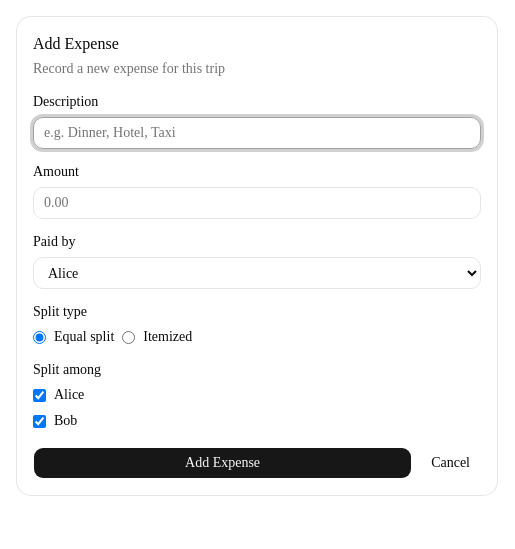
Test case: AddExpenseFormView › shows split among required error when all members are unchecked
Type "Dinner" into the field with placeholder "e.g. Dinner, Hotel, Taxi" at (257, 133), box left=33, top=117, right=481, bottom=149
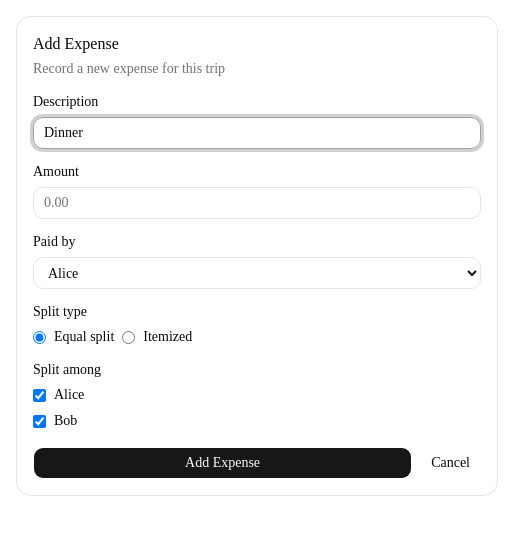
Type "10" into the field with placeholder "0.00" at (257, 203), box left=33, top=187, right=481, bottom=219
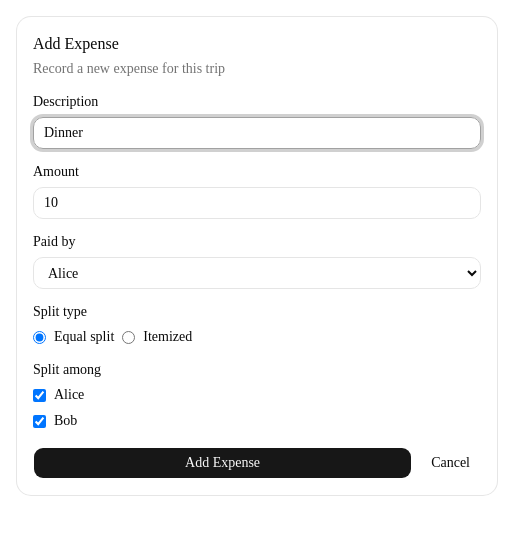
Click the checkbox labelled "Alice" at (40, 395), box left=33, top=388, right=46, bottom=402
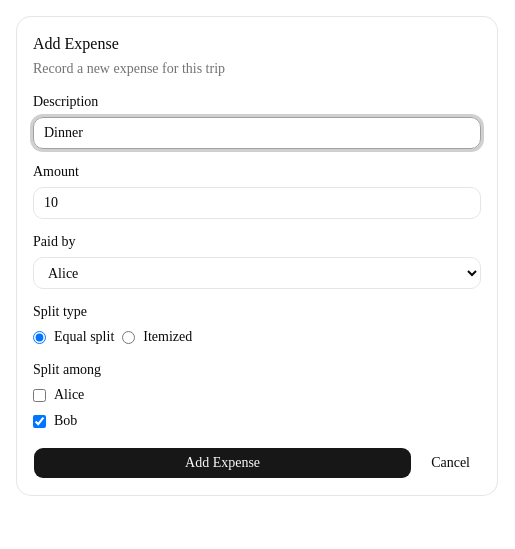
Click the checkbox labelled "Bob" at (40, 421), box left=33, top=414, right=46, bottom=428
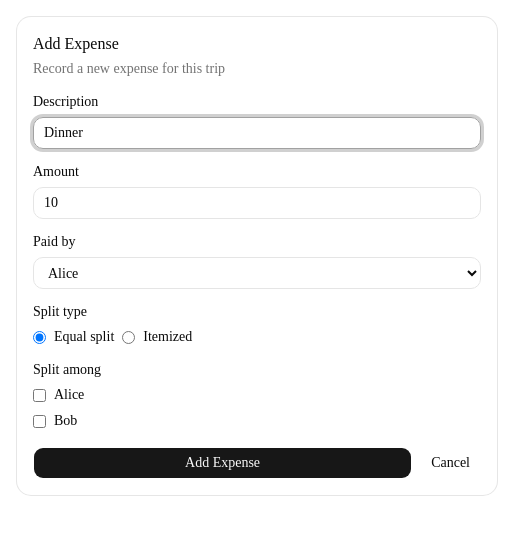
Submit the form named "Add Expense"
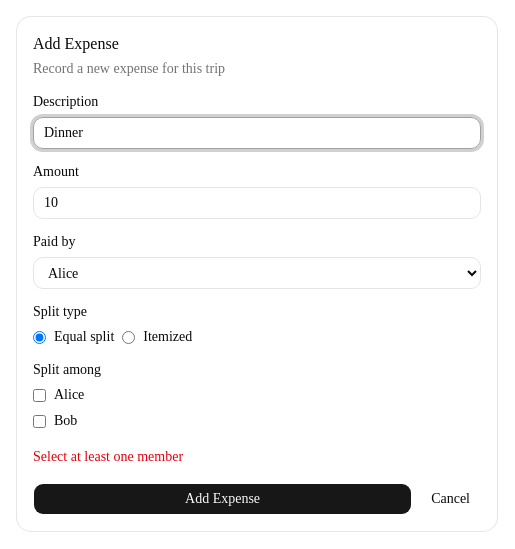
Result: the text "Select at least one member" is shown at left=33, top=449, right=183, bottom=464
